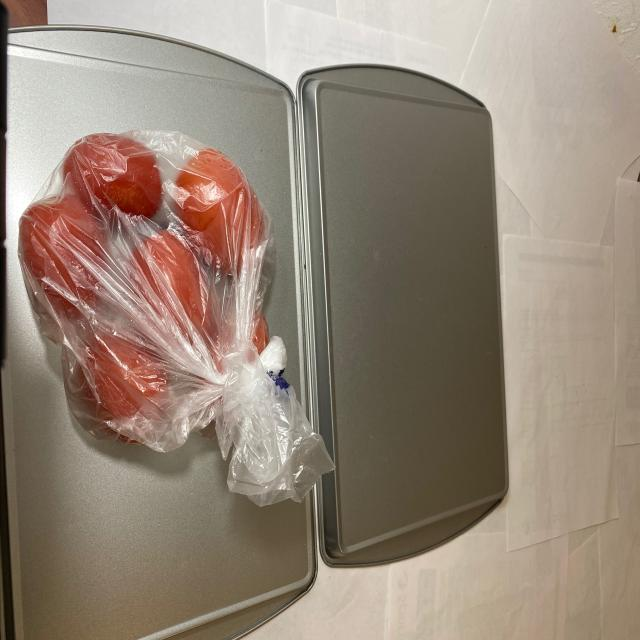tomato: (19, 136, 292, 469)
